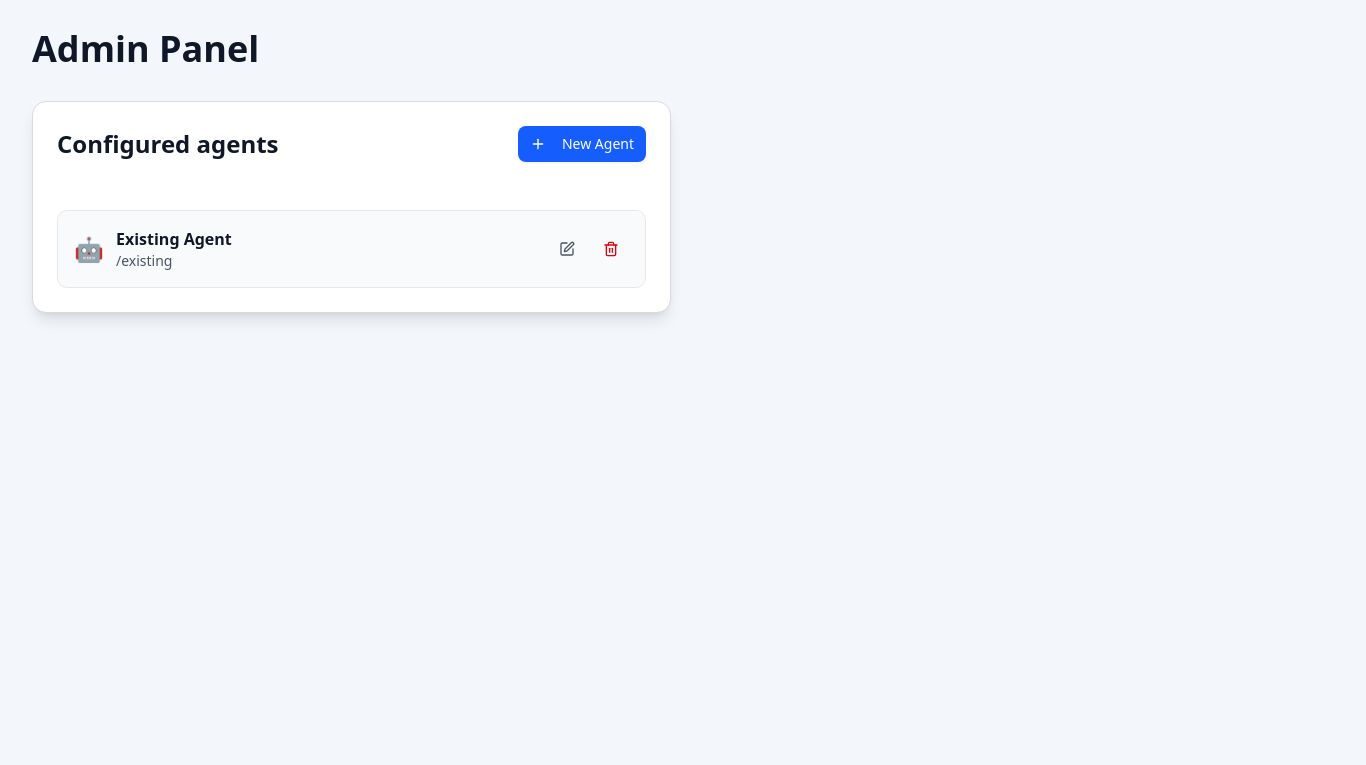
it: AdminPanelClient › updates chatwoot settings when editing an agent
Later steps or results of the test are not shown.
Click the 2nd button at [567, 249], box [549,233,585,265]
(page scrolled)
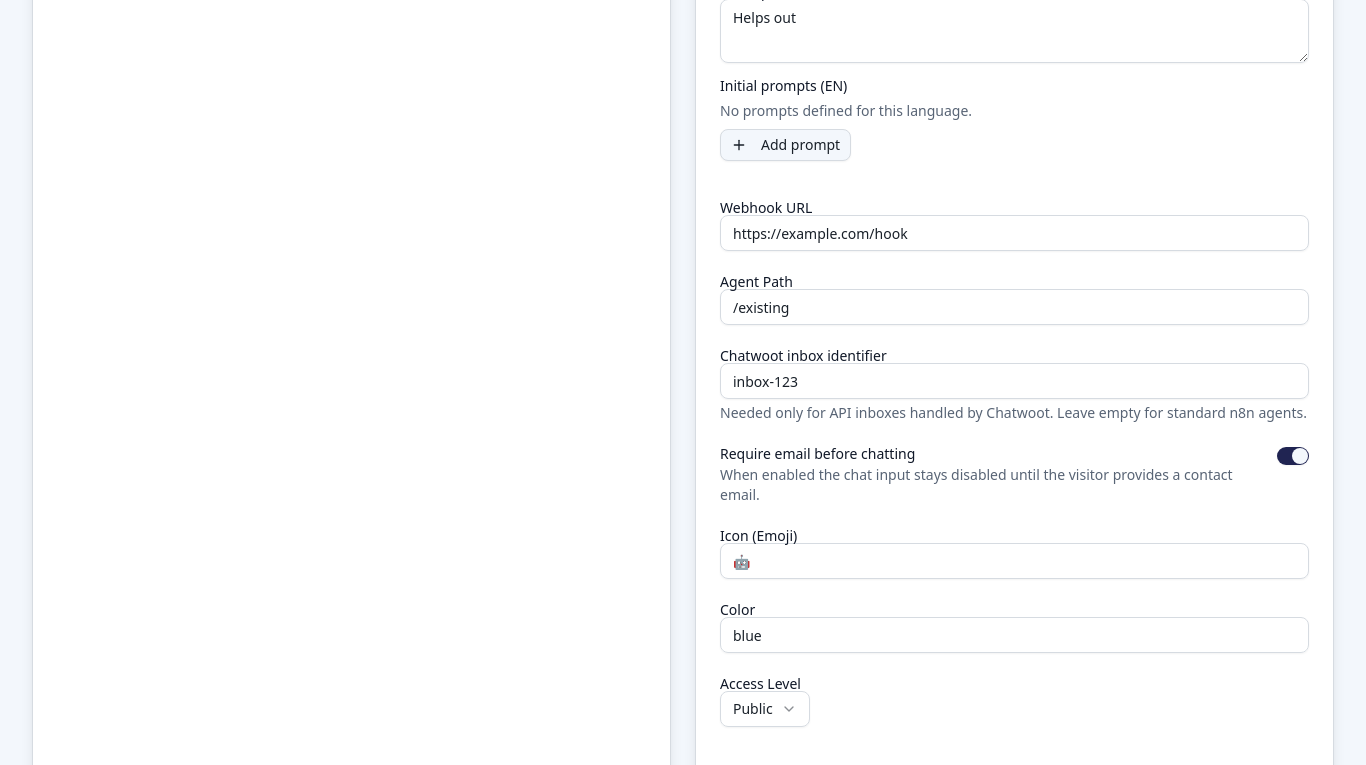
Now the field labelled "Chatwoot inbox identifier" holds "inbox-123", box [720,363,1309,399]
